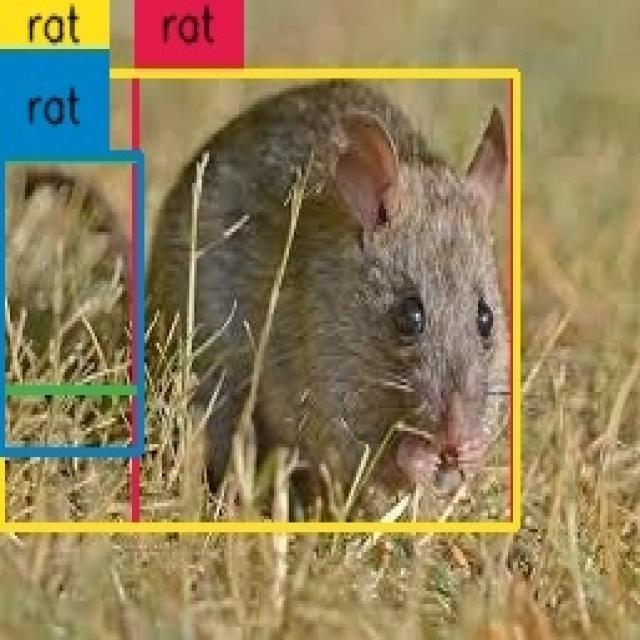rat: (0, 72, 515, 529), (137, 74, 515, 528), (0, 155, 142, 452), (0, 157, 139, 392)
